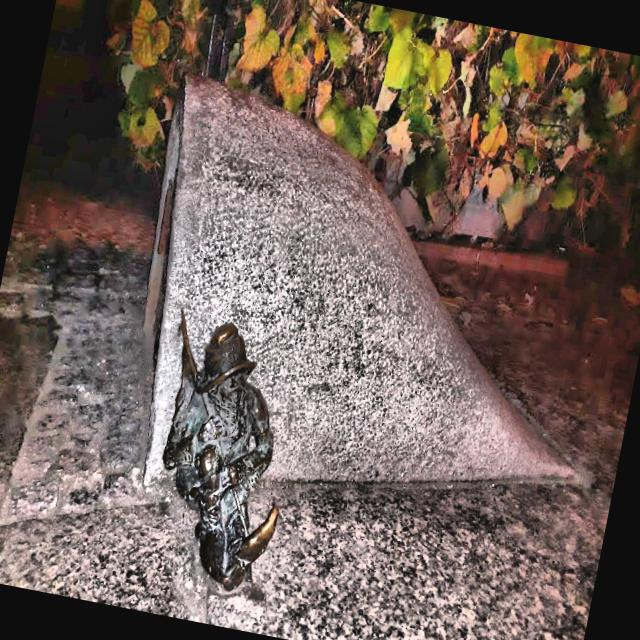Spioch: (163, 310, 277, 589)
